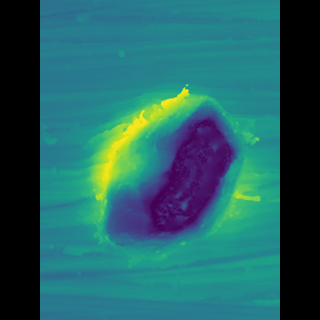Loch: (96, 79, 234, 268)
